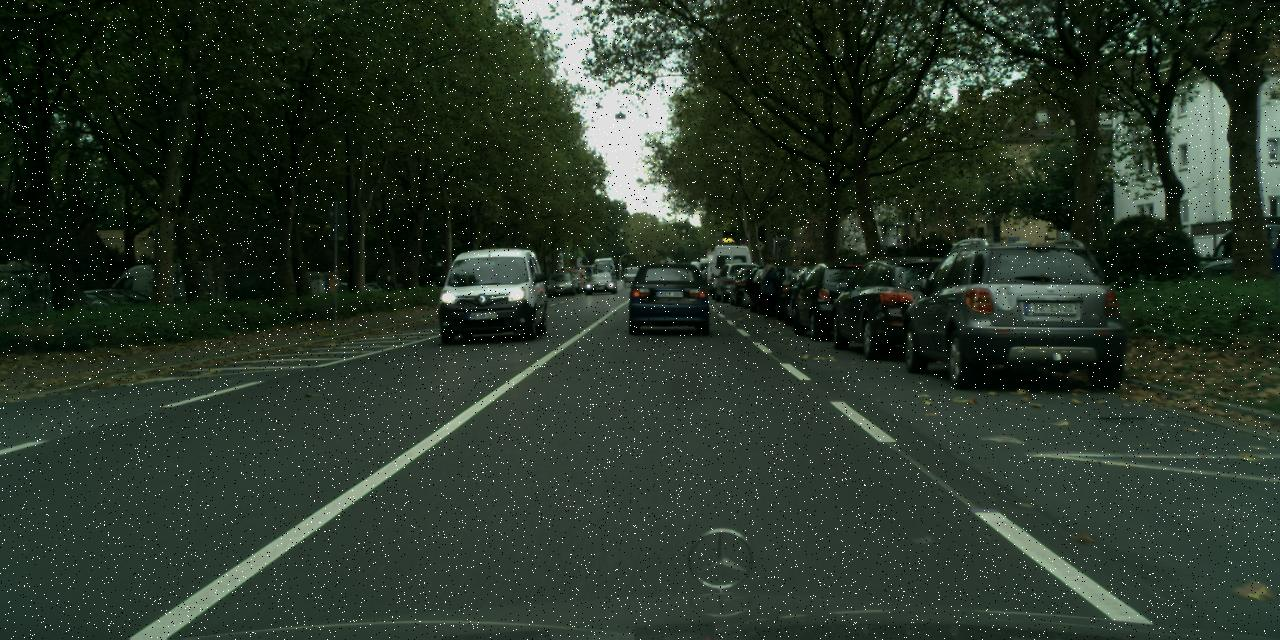ped: (758, 257, 783, 317), (384, 275, 395, 303)
